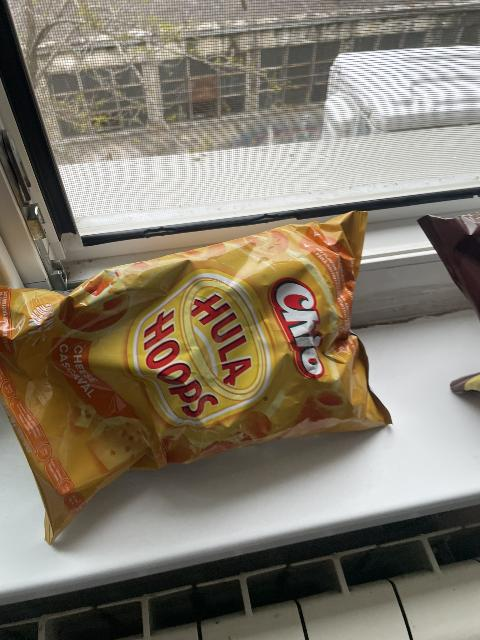Chio Hula Hoops Cheese 70g: (2, 218, 386, 535)
